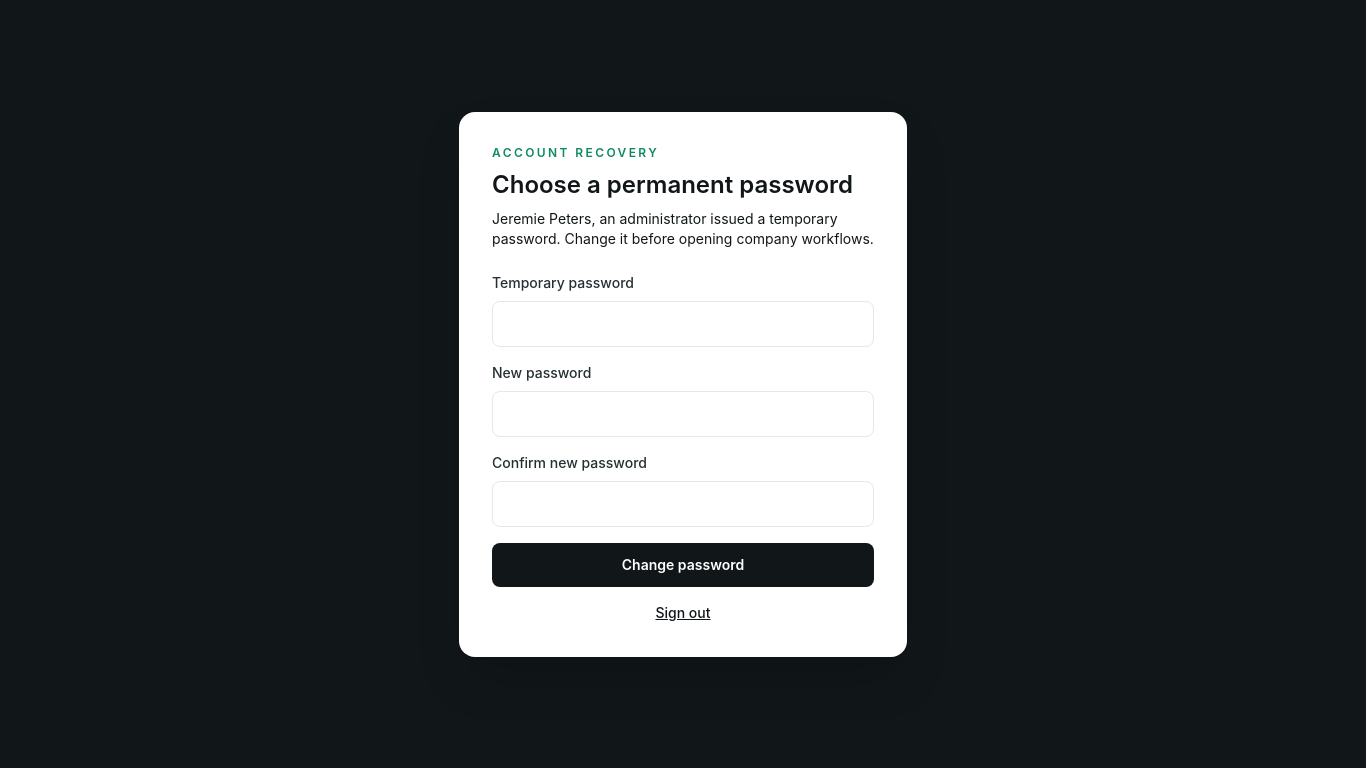
Scenario: LoginPage › requires a permanent password after administrator-assisted recovery
This screenshot has width=1366, height=768.
Check: the heading "Choose a permanent password" is shown, box [492, 168, 874, 200]
Step 1. Type "temporary-password-2026" into the password field labelled "Temporary password" → (683, 324), box [492, 300, 874, 346]
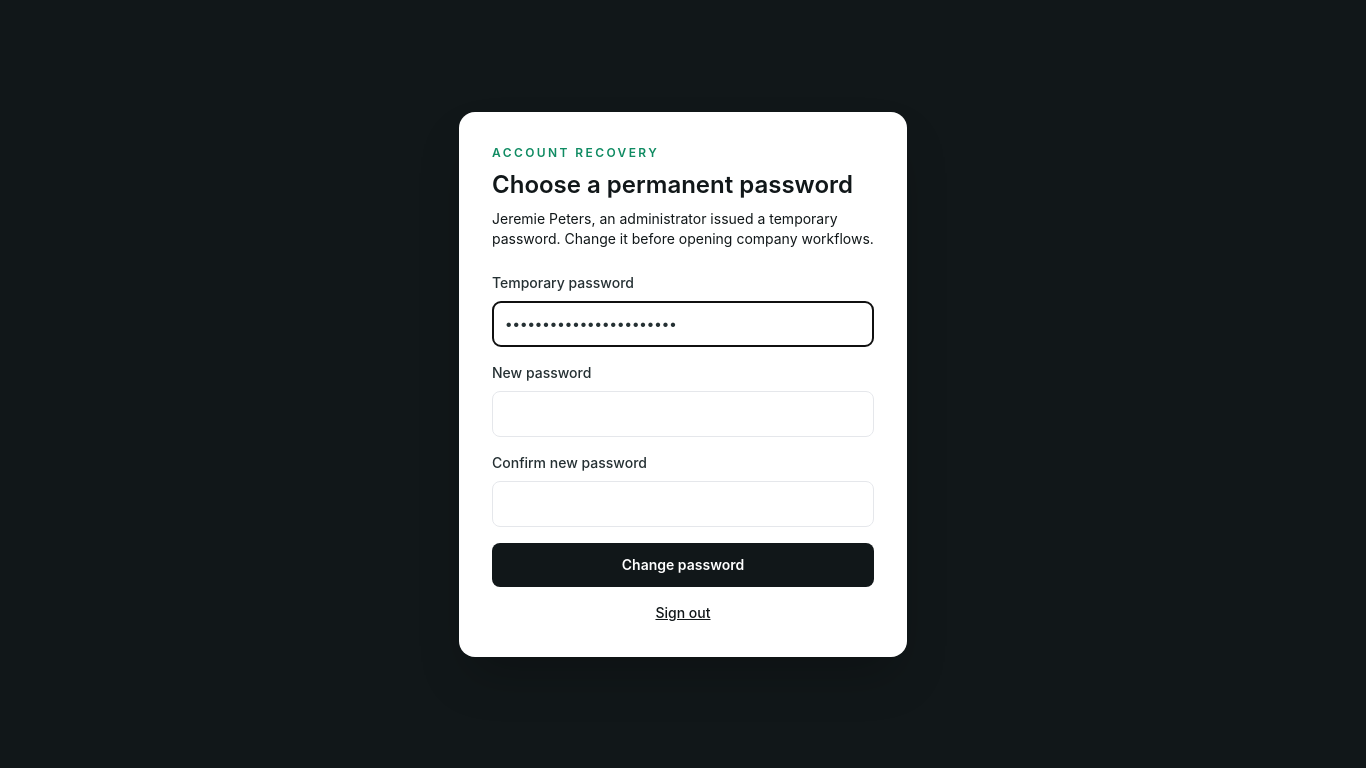
Step 2. Type "permanent-password-2026" into the password field labelled "New password" → (683, 414), box [492, 390, 874, 436]
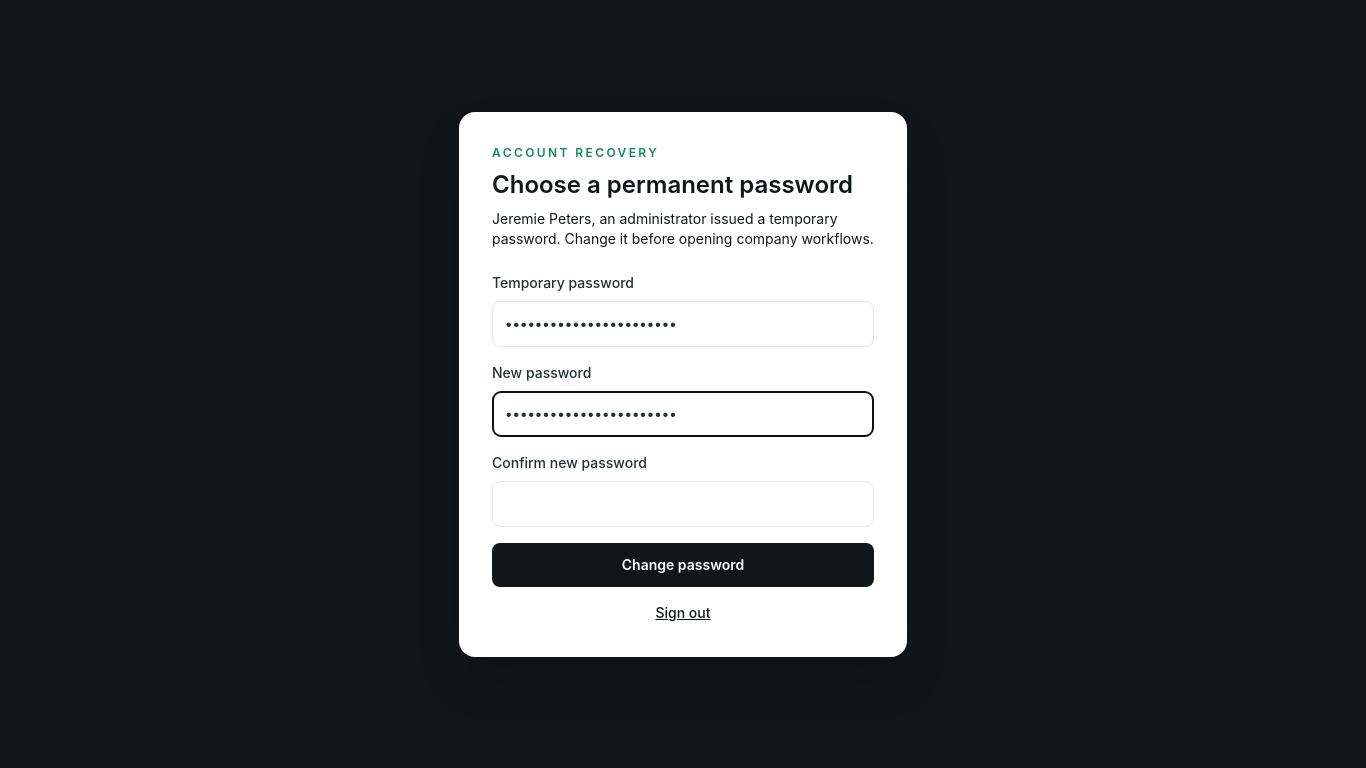
Step 3. Type "permanent-password-2026" into the password field labelled "Confirm new password" → (683, 504), box [492, 480, 874, 526]
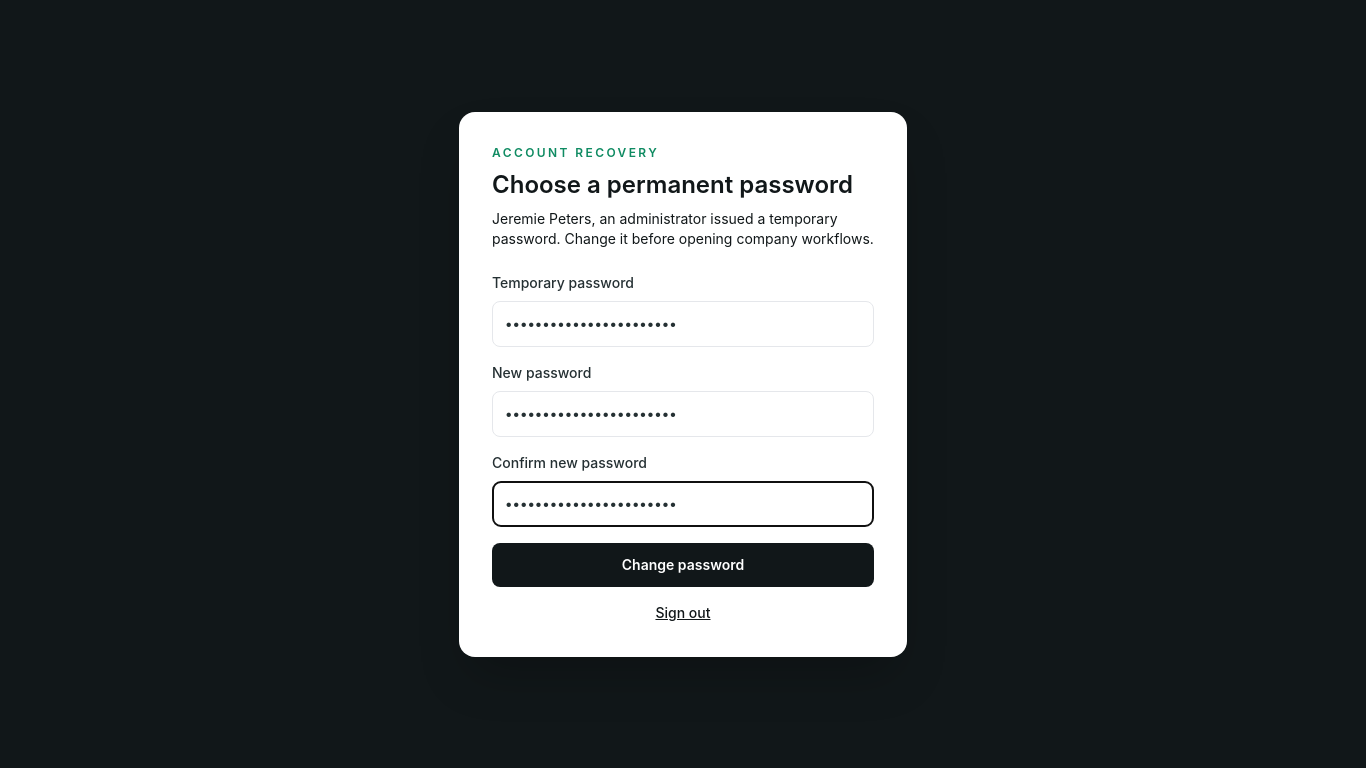
Step 4. Click the button "Change password" → (683, 564), box [492, 542, 874, 586]
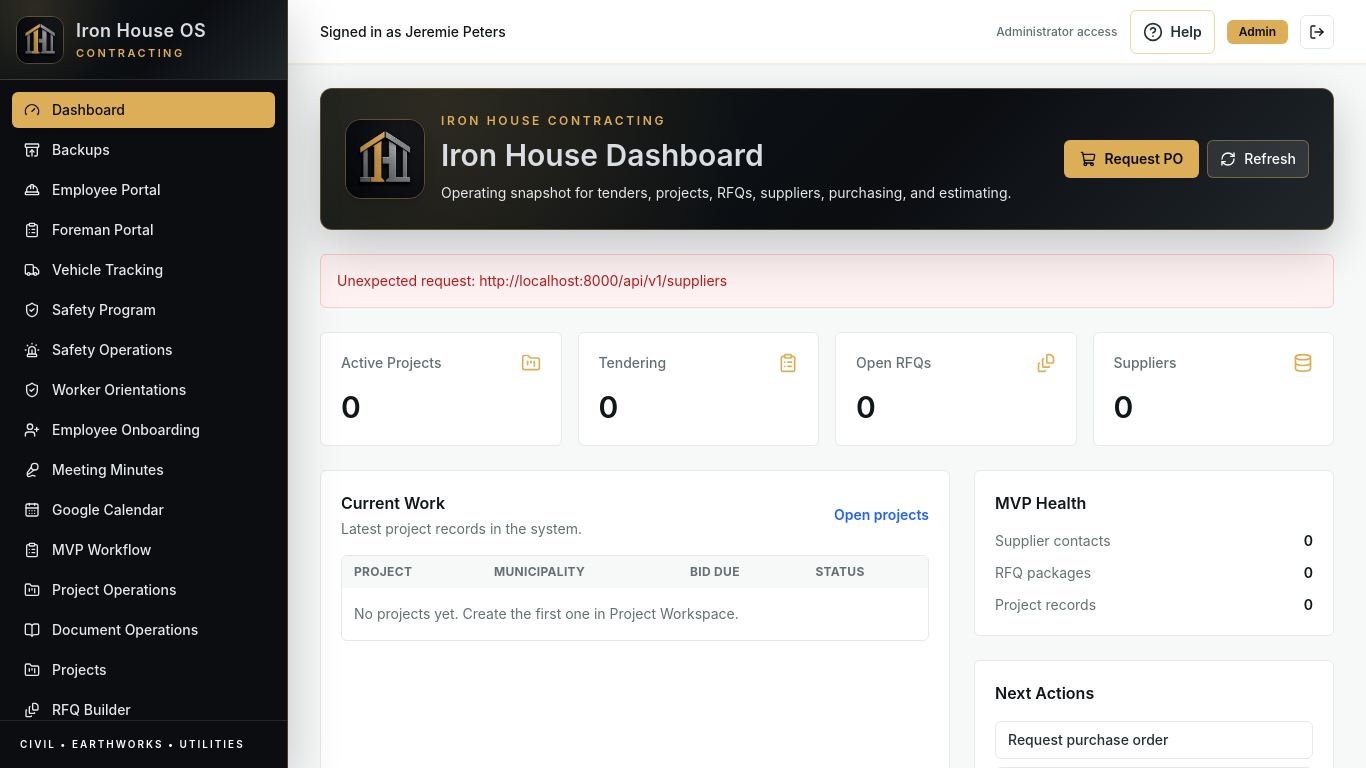
Check: the text "Signed in as Jeremie Peters" is shown, box [320, 22, 506, 42]
